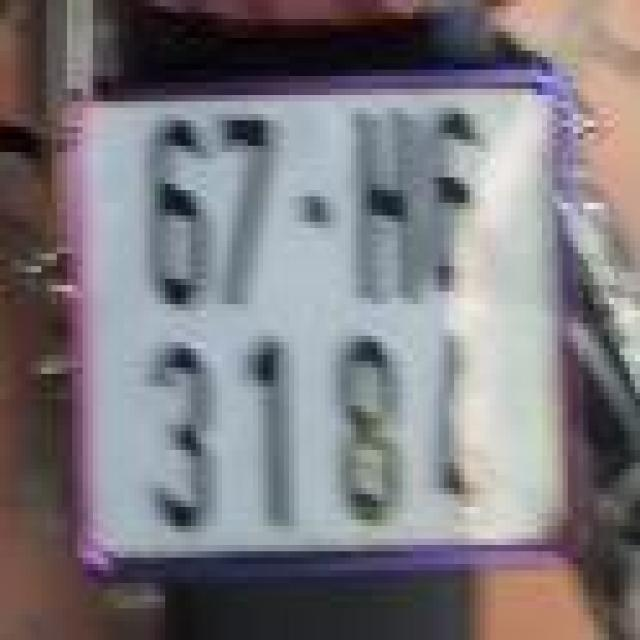1: (240, 336, 302, 532)
3: (144, 342, 222, 539)
6: (142, 114, 209, 304), (423, 114, 485, 292)
7: (216, 114, 278, 311)
8: (328, 332, 415, 536)
H: (333, 101, 426, 317)
